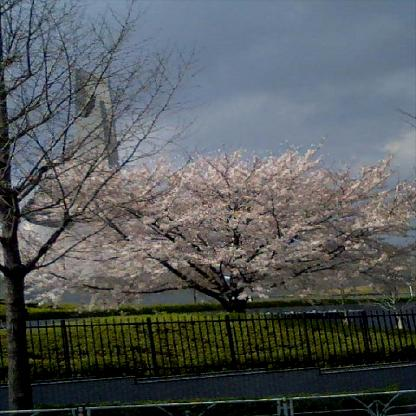Someiyoshino: (22, 147, 415, 295)
